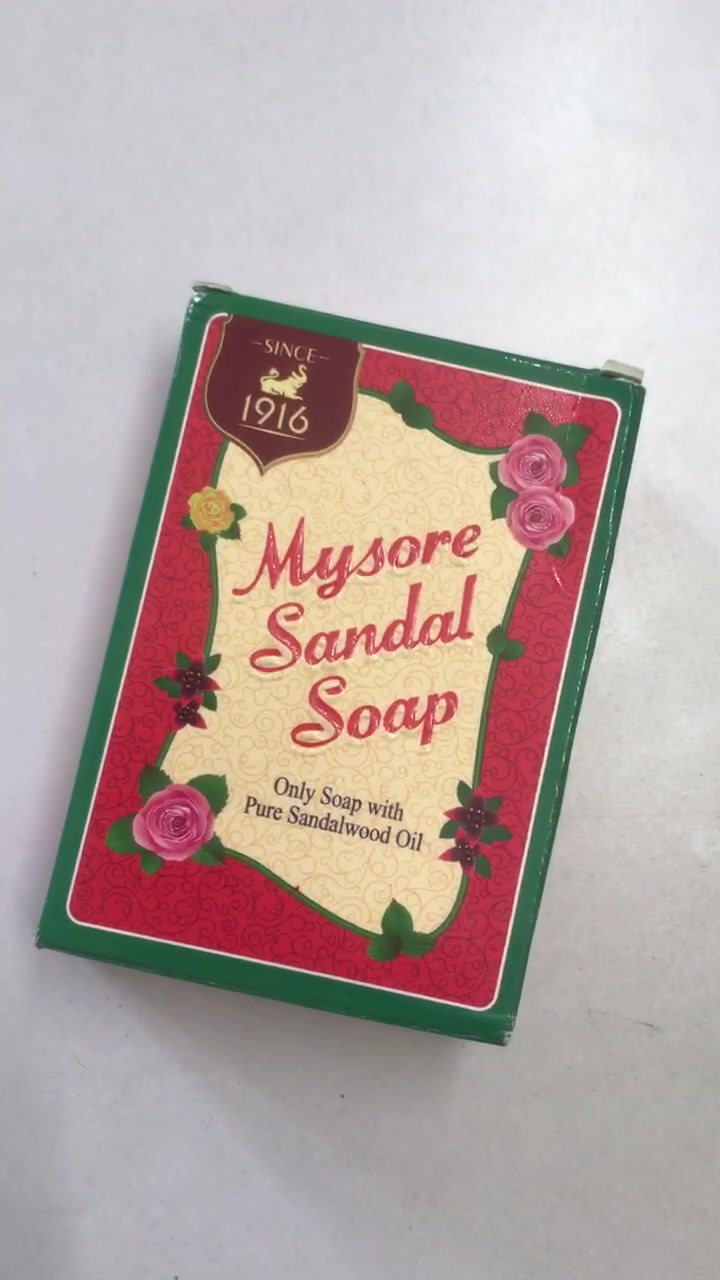mysore sandal soap: (35, 281, 642, 1046)
